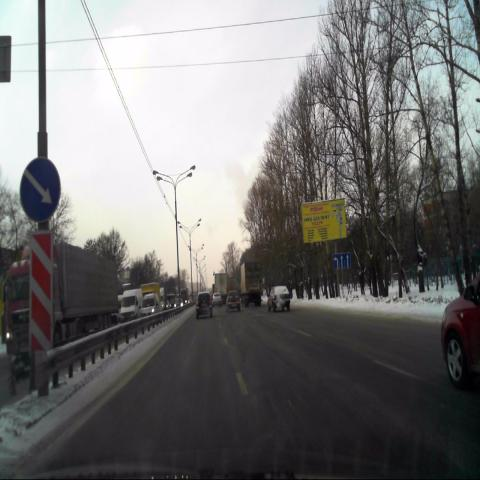5_15_1: (333, 252, 351, 270)
